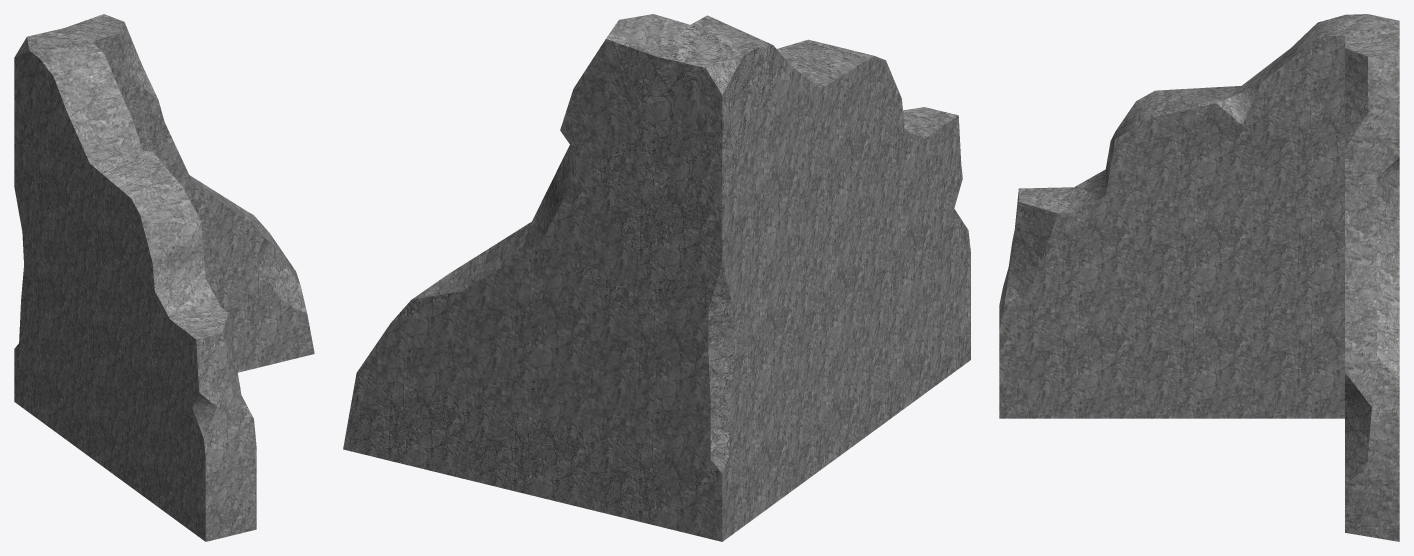
The model's file is materials_3_building_10.fbx.
3 views of the same model, side by side, from view 1: azimuth 30°, elevation 25°; view 2: azimuth 150°, elevation 25°; view 3: azimuth 270°, elevation 25° (orthographic). The views are drawn at different scales.
Visible parts, largest first — view 1: materials_3_building_10; view 2: materials_3_building_10; view 3: materials_3_building_10.
Boxes of the visible parts, left/top/right/bottom form: materials_3_building_10: left=14, top=14, right=314, bottom=541; materials_3_building_10: left=343, top=14, right=970, bottom=541; materials_3_building_10: left=999, top=14, right=1399, bottom=541.
Bounding box in the file's own units: 553 × 666 × 628.
